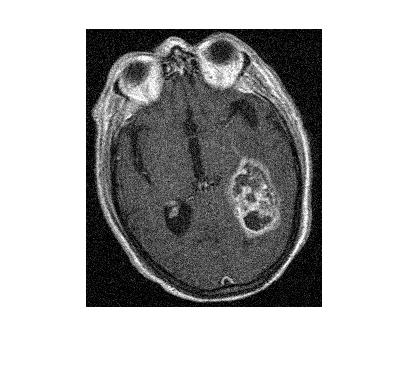Brain_Cancer: (223, 154, 285, 239)
